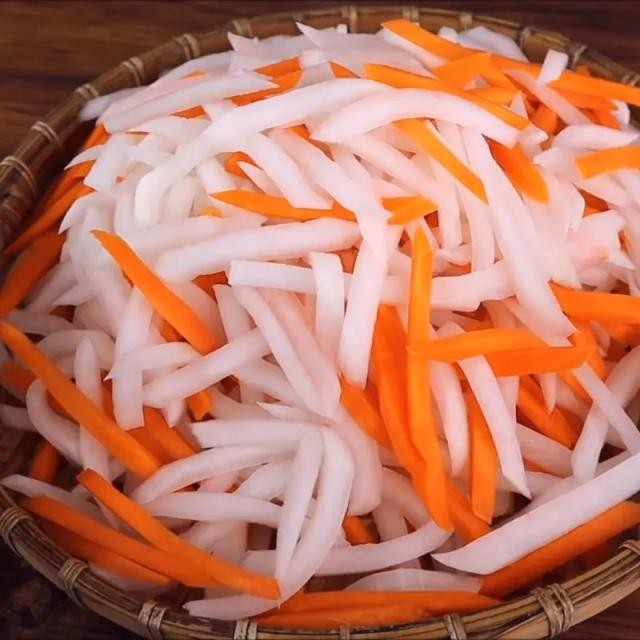do chua: (10, 20, 639, 618)
